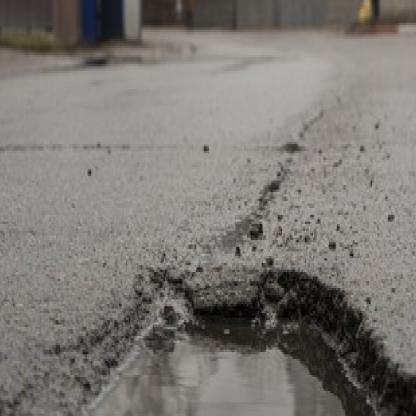pothole: (0, 262, 416, 416)
